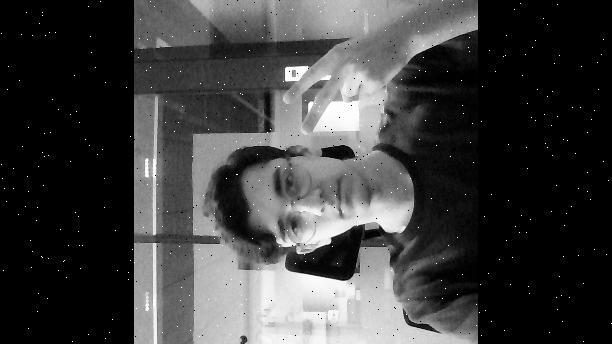Scissors: (281, 25, 409, 134)
